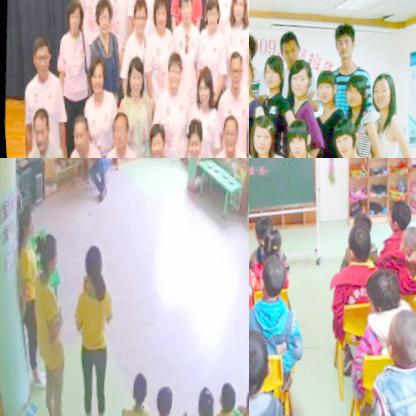head: (375, 307, 416, 379), (359, 266, 399, 321), (73, 237, 109, 290), (29, 227, 59, 276), (252, 254, 284, 299), (249, 327, 270, 395), (341, 224, 370, 273), (119, 53, 148, 100), (329, 26, 358, 73), (63, 111, 91, 158), (24, 106, 50, 153), (391, 226, 416, 274), (284, 66, 312, 108), (367, 77, 395, 119), (121, 369, 149, 411), (191, 65, 215, 113), (383, 202, 411, 240), (279, 123, 309, 158), (104, 114, 130, 154), (82, 54, 105, 99), (10, 200, 37, 238), (249, 119, 275, 158), (258, 57, 284, 95), (177, 118, 201, 158), (160, 54, 184, 94), (89, 0, 113, 40), (276, 34, 301, 72), (210, 377, 234, 416), (255, 227, 281, 263), (28, 35, 50, 76), (140, 122, 165, 158), (313, 74, 338, 110), (346, 209, 371, 245), (341, 79, 365, 116), (328, 124, 354, 158), (62, 0, 83, 39), (216, 119, 237, 158), (186, 385, 212, 416), (145, 382, 168, 416), (148, 0, 169, 37), (127, 0, 148, 36), (222, 54, 241, 93), (249, 212, 272, 244), (227, 0, 249, 27), (172, 0, 194, 26), (200, 0, 220, 28), (238, 386, 249, 416), (249, 33, 257, 69)
